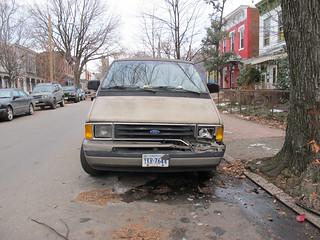Headlight-Damage: (195, 124, 224, 154)
